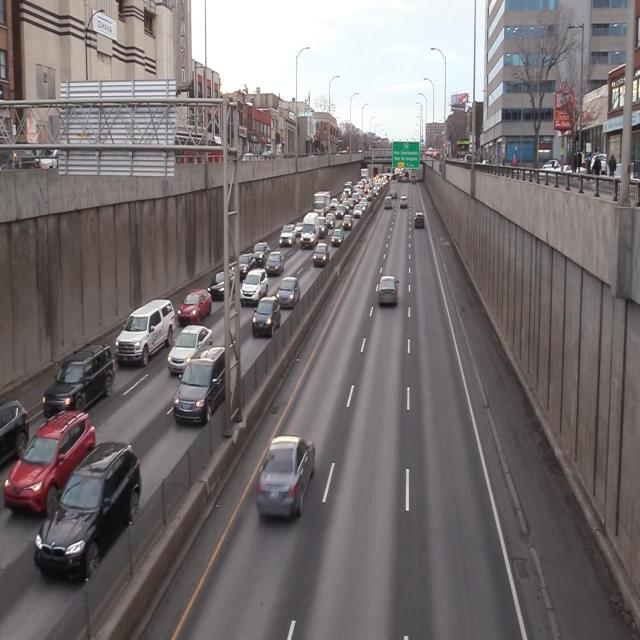Car: (37, 442, 146, 582), (5, 405, 96, 517), (40, 344, 118, 420), (253, 440, 321, 524), (173, 348, 239, 423), (116, 302, 176, 364), (167, 324, 217, 373), (178, 286, 212, 324), (252, 296, 280, 338), (240, 269, 268, 306), (208, 268, 237, 302), (277, 277, 301, 311), (232, 253, 256, 280), (266, 250, 284, 276)
